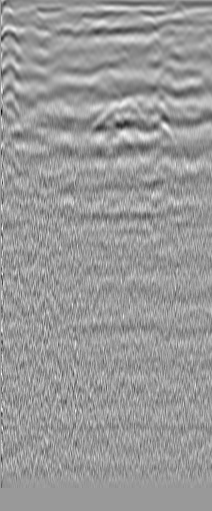오수: (22, 7, 42, 27)
우수: (162, 22, 182, 42)
